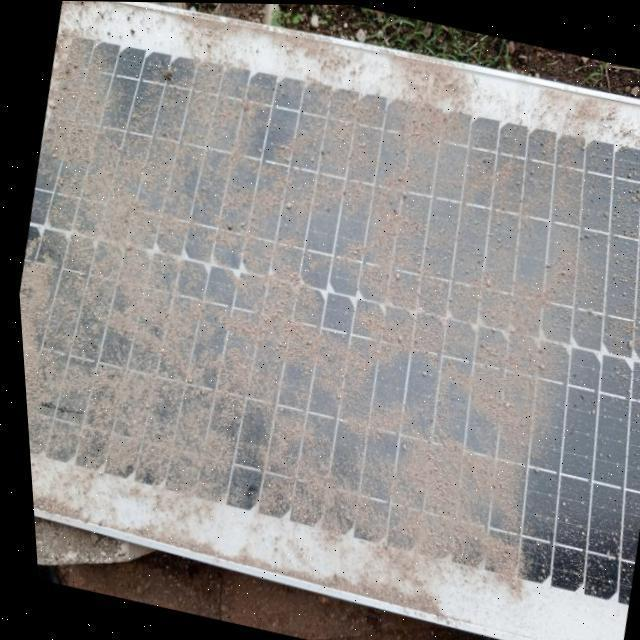Surface Contaminant: (15, 1, 640, 623)
